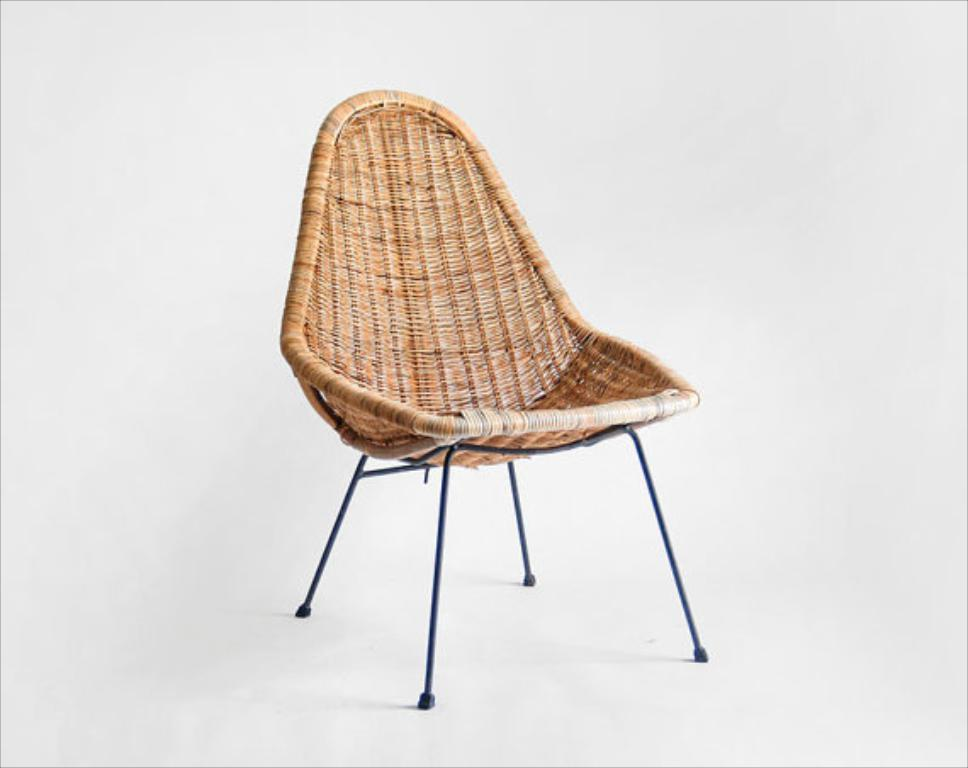Chair: (273, 87, 710, 714)
